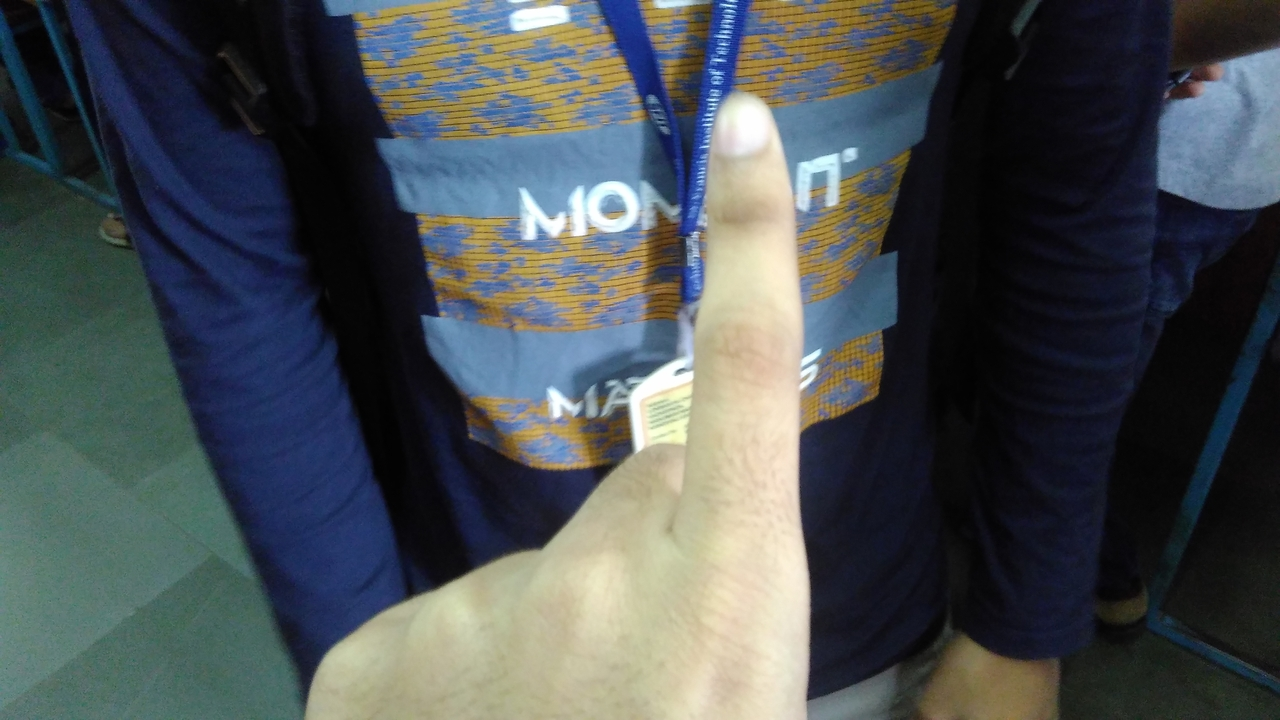fingertip: (712, 84, 786, 158)
